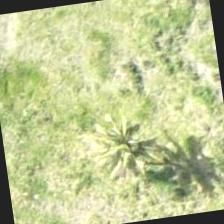Kelapa_Sawit: (77, 99, 178, 201)
